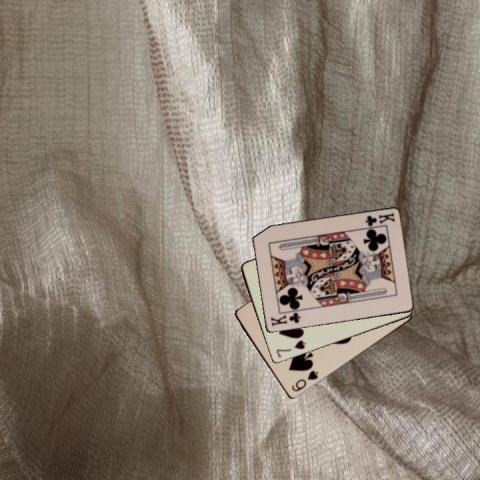6s: (289, 368, 319, 394)
7s: (274, 337, 308, 359)
Kc: (362, 210, 396, 228), (267, 310, 302, 327)
